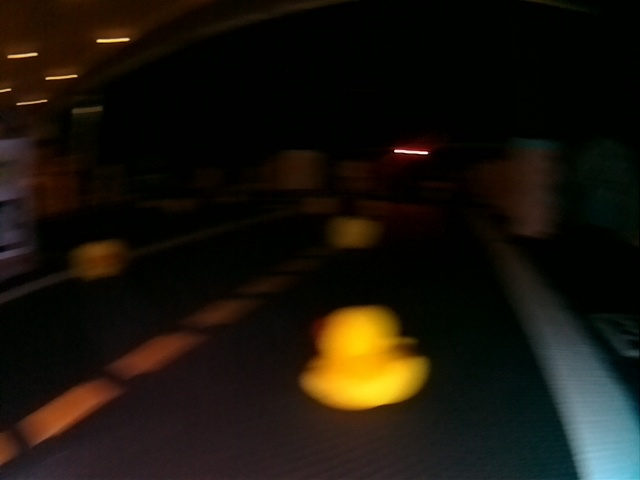Duckie: (300, 305, 430, 411), (68, 239, 124, 280), (324, 216, 380, 249)
QR code: (587, 311, 638, 356)
